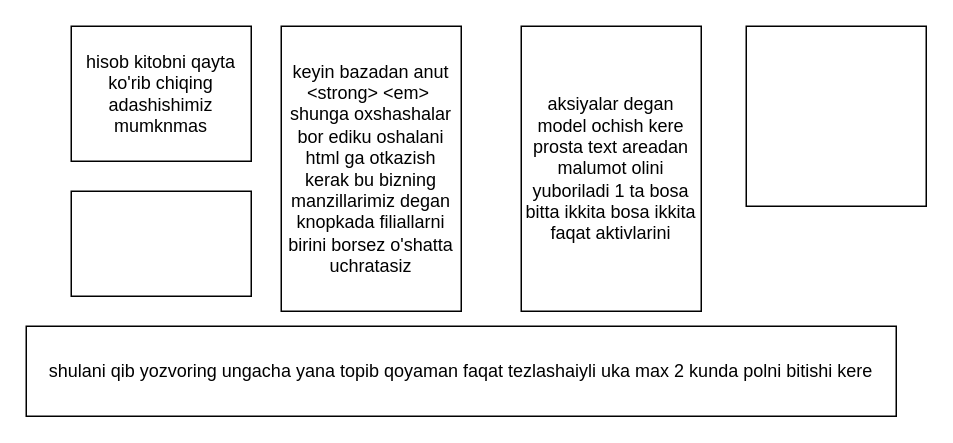
The diagram is 953 pixels wide and 443 high, and some of its shapes have lost their labels. Here are the shapes that lost their labels. From the top down, the centre of each, then its label:
At (x=835, y=115): "reklama jo'natadigan qilishimi kere tekst video rasm + caption bo'lishi mumkin".
At (x=160, y=243): "operatorlaga websoket yozib berishiz kere".
